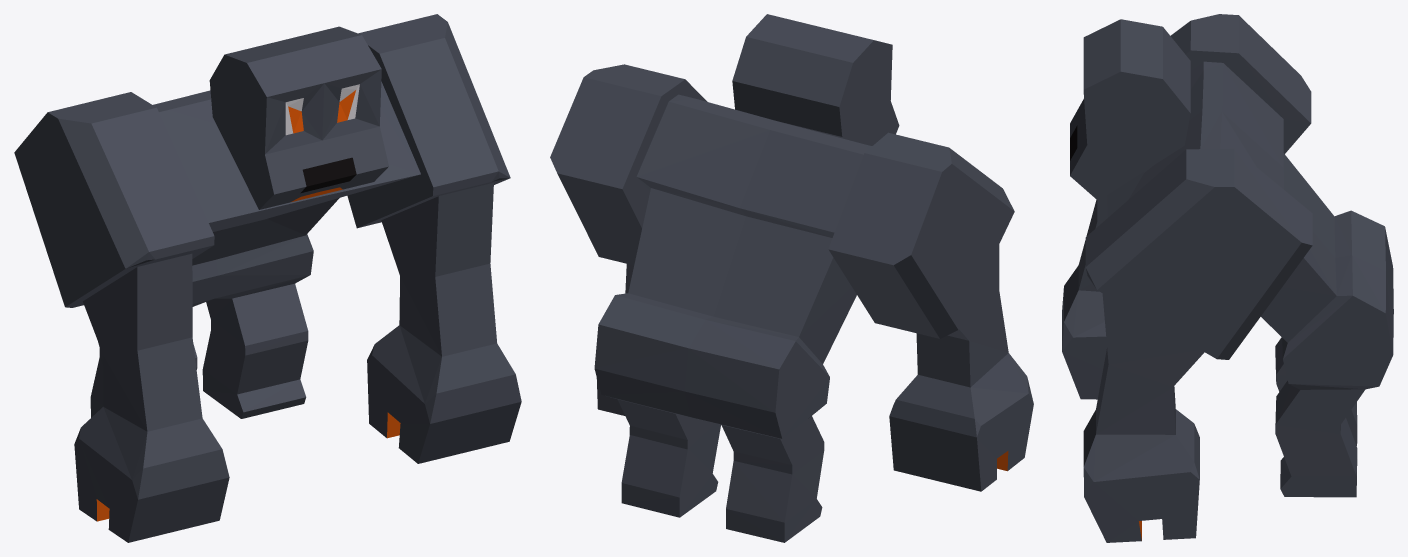
File: kong_000001.obj
The picture shows the model from 3 angles, left to right: view 1: azimuth 30°, elevation 25°; view 2: azimuth 150°, elevation 25°; view 3: azimuth 270°, elevation 25°; orthographic projection. The views are drawn at different scales.
Visible parts, largest first — view 1: Cube; view 2: Cube; view 3: Cube.
Part boxes in pixels (<box>): Cube: <box>14,14,521,542</box>; Cube: <box>550,14,1033,542</box>; Cube: <box>1062,14,1393,542</box>.
Bounding box in the file's own units: 5.84 × 6.18 × 4.51.
1 material, 1 textured.
